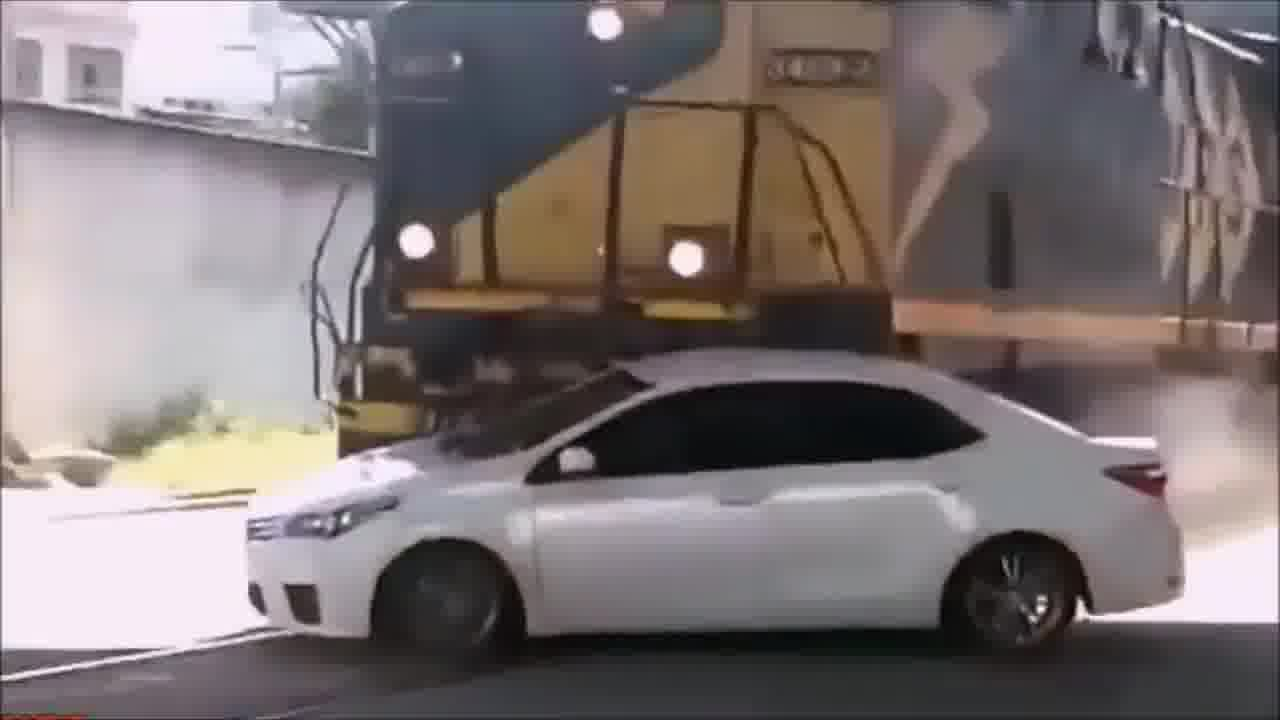crossing railway track: (227, 345, 1243, 662)
